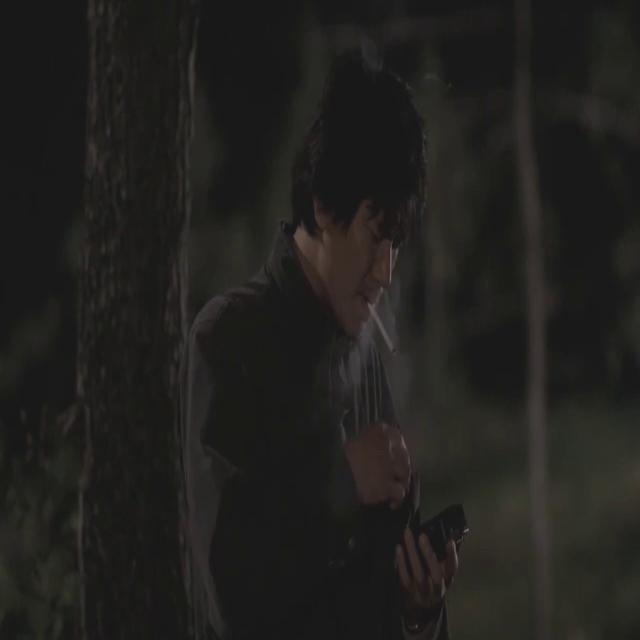Smooking: (369, 295, 401, 366)
